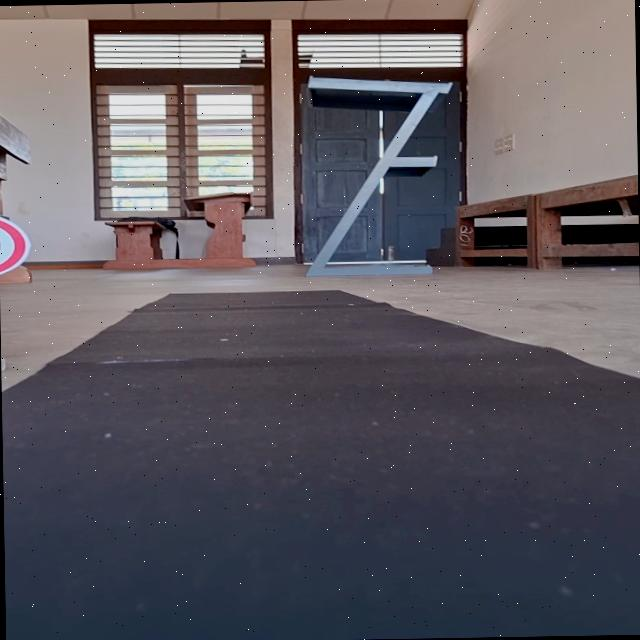Speed40: (0, 210, 33, 280)
